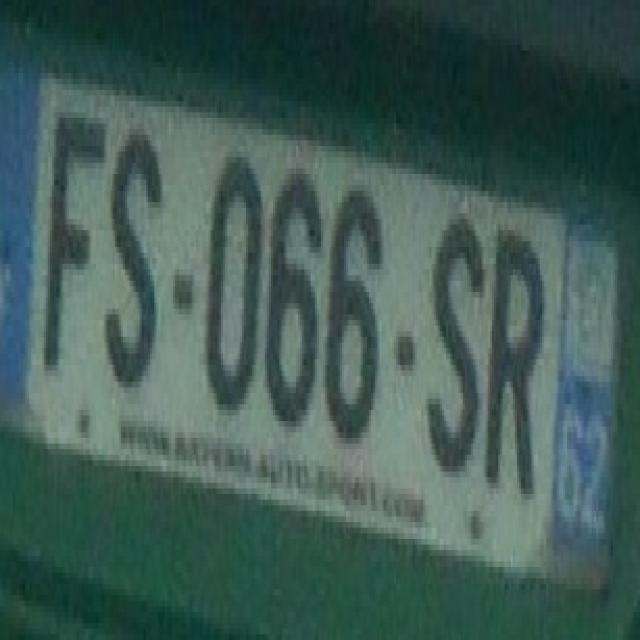Autre: (0, 59, 627, 588)
